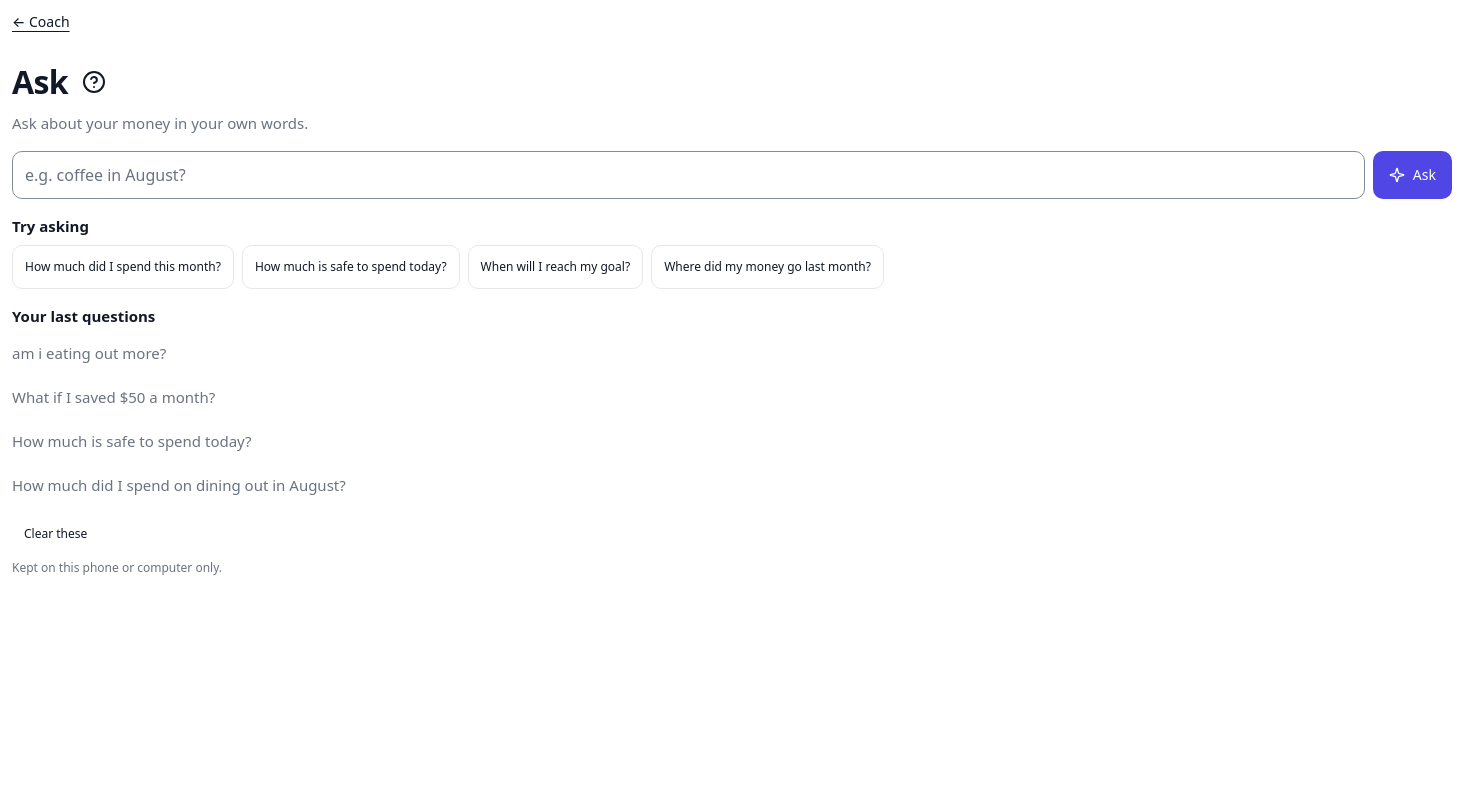
Ask with AI on › says it cannot answer, with questions it can
Step 1. Type "Should I buy a boat?" into the field named "Your question" → coordinates (688, 174), box [12,150,1365,198]
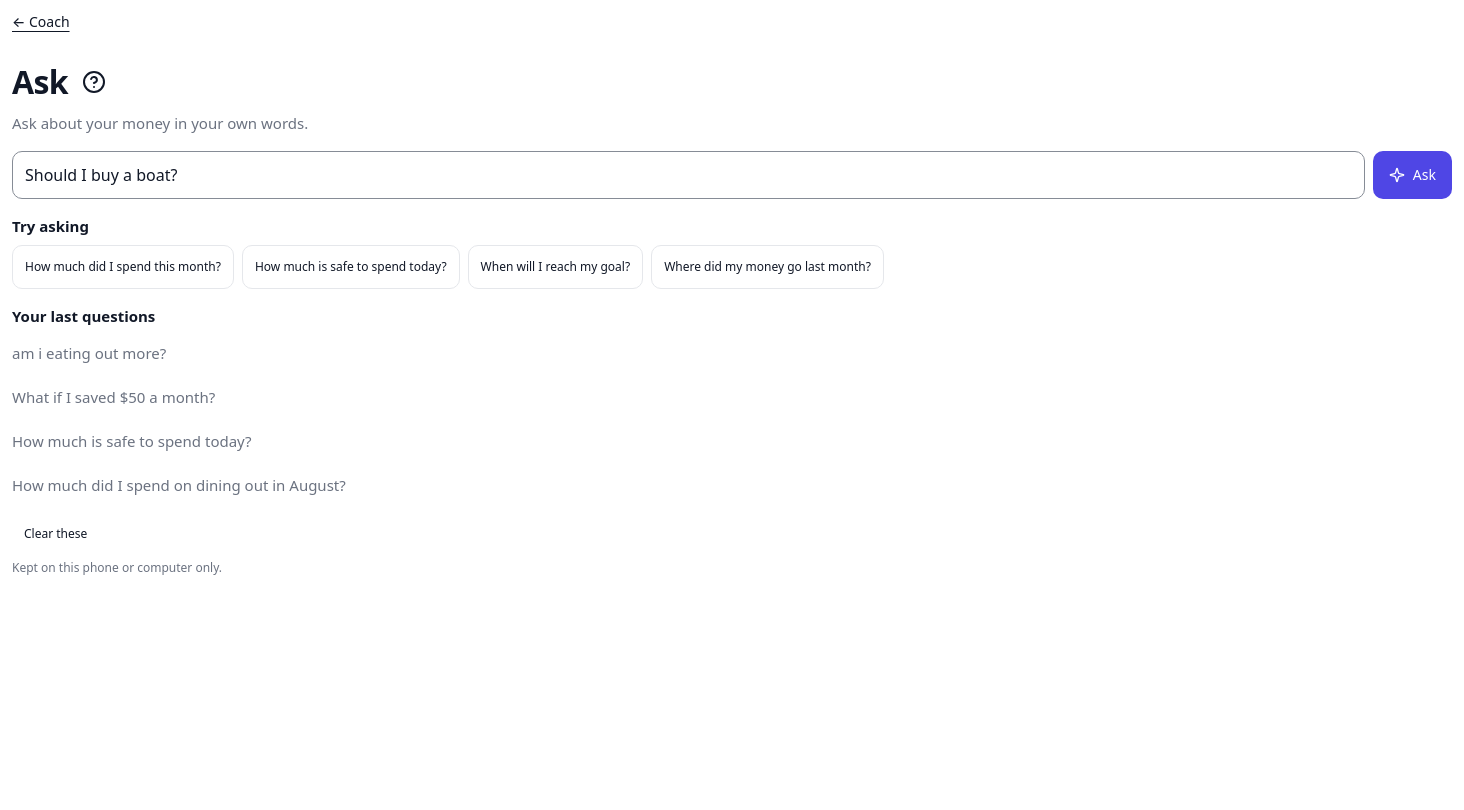
Step 2. Click the button "Ask" → coordinates (1412, 174), box [1373,150,1452,198]
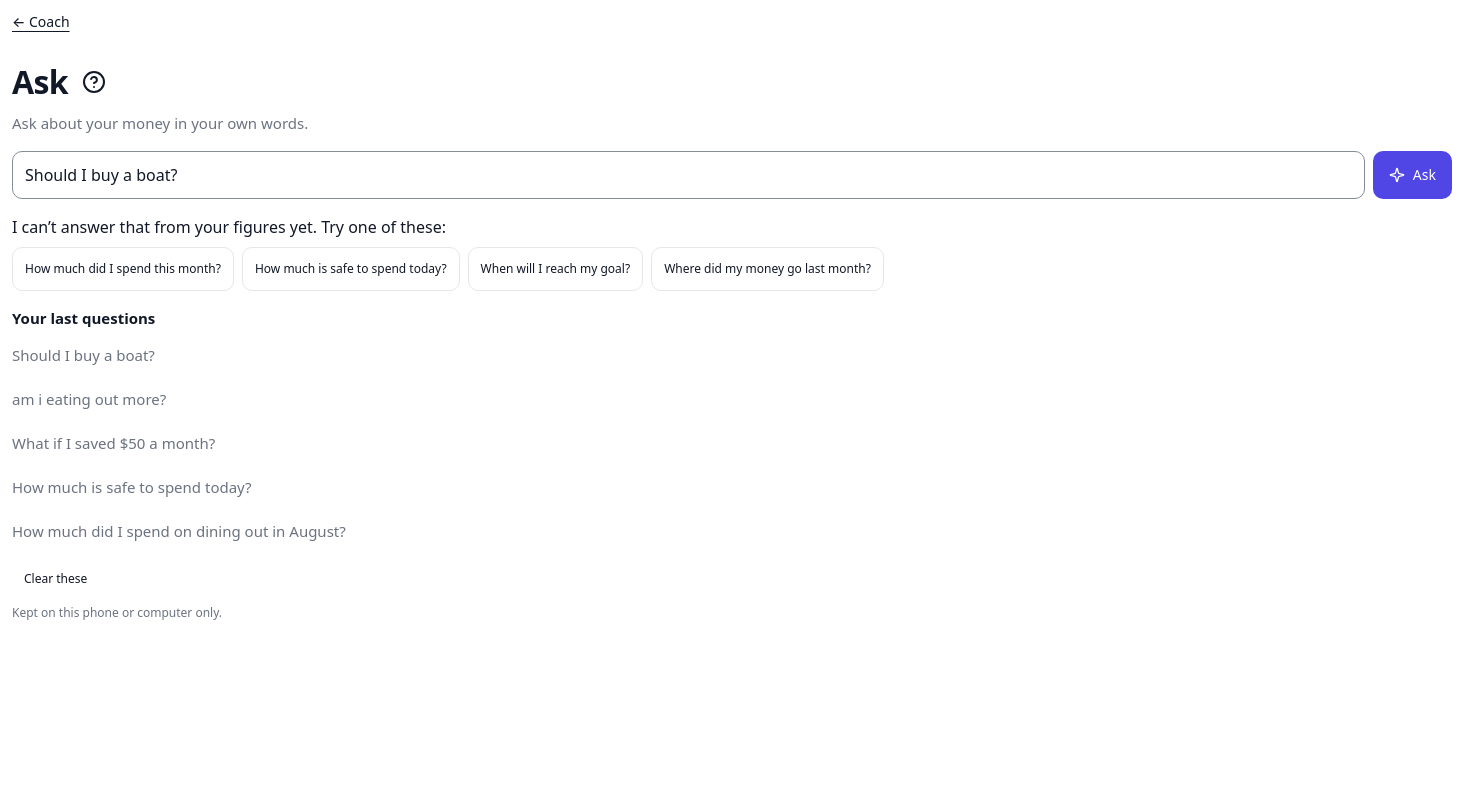
Expected: the number of buttons "How much did I spend this month?" is 1, [12,246,234,290]
Expected: the text "I can’t answer that from your figures yet. Try one of these:" is shown, [12,216,446,238]
